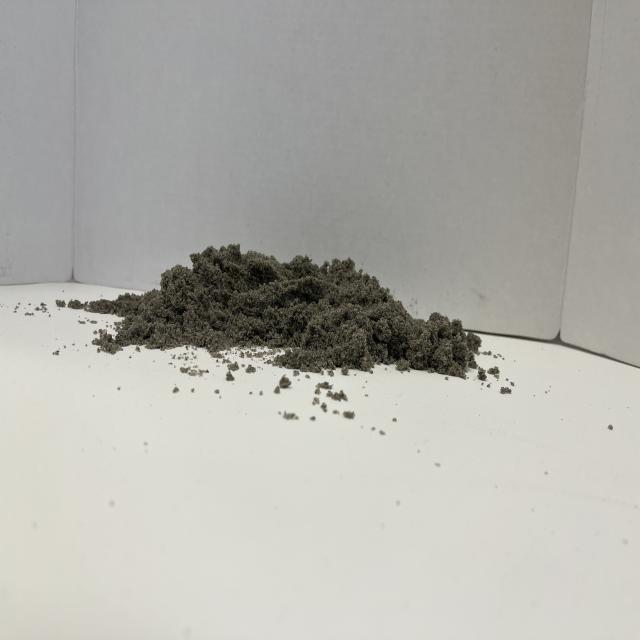sand: (98, 234, 466, 394)
